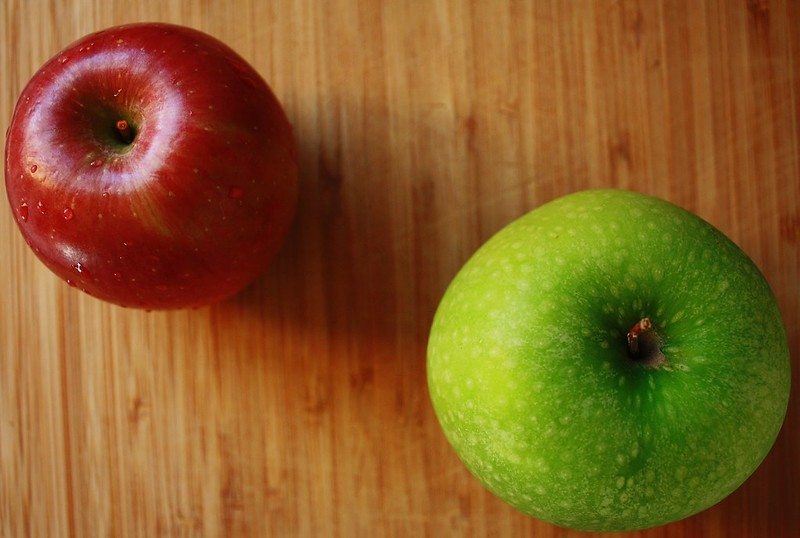apple: (6, 20, 311, 320)
